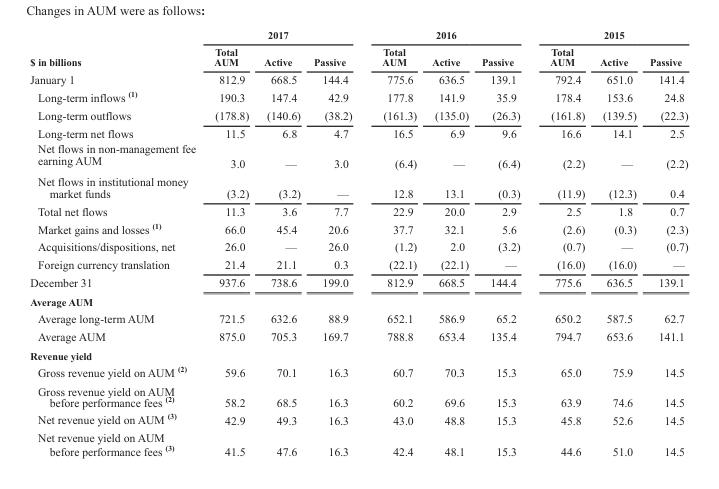table: (29, 29, 687, 457)
table column: (29, 29, 204, 457), (306, 29, 366, 457), (474, 29, 534, 457), (366, 29, 423, 457), (534, 29, 591, 457), (204, 29, 255, 457), (255, 29, 306, 457), (423, 29, 474, 457), (591, 29, 642, 457), (642, 29, 687, 457)
table column header: (29, 29, 687, 70)
table projected row header: (29, 291, 687, 309), (29, 346, 687, 362)
table row: (29, 140, 687, 172), (29, 172, 687, 201), (29, 428, 687, 457), (29, 381, 687, 409), (29, 43, 687, 70), (29, 87, 687, 106), (29, 272, 687, 291), (29, 327, 687, 346), (29, 362, 687, 381), (29, 409, 687, 428), (29, 106, 687, 124), (29, 201, 687, 219), (29, 219, 687, 237), (29, 254, 687, 272), (29, 291, 687, 309), (29, 309, 687, 327), (29, 70, 687, 87), (29, 237, 687, 254), (29, 124, 687, 140), (29, 346, 687, 362), (29, 29, 687, 43)
table spanning cell: (29, 29, 204, 70), (366, 29, 534, 43), (204, 29, 366, 43), (534, 29, 687, 43)
